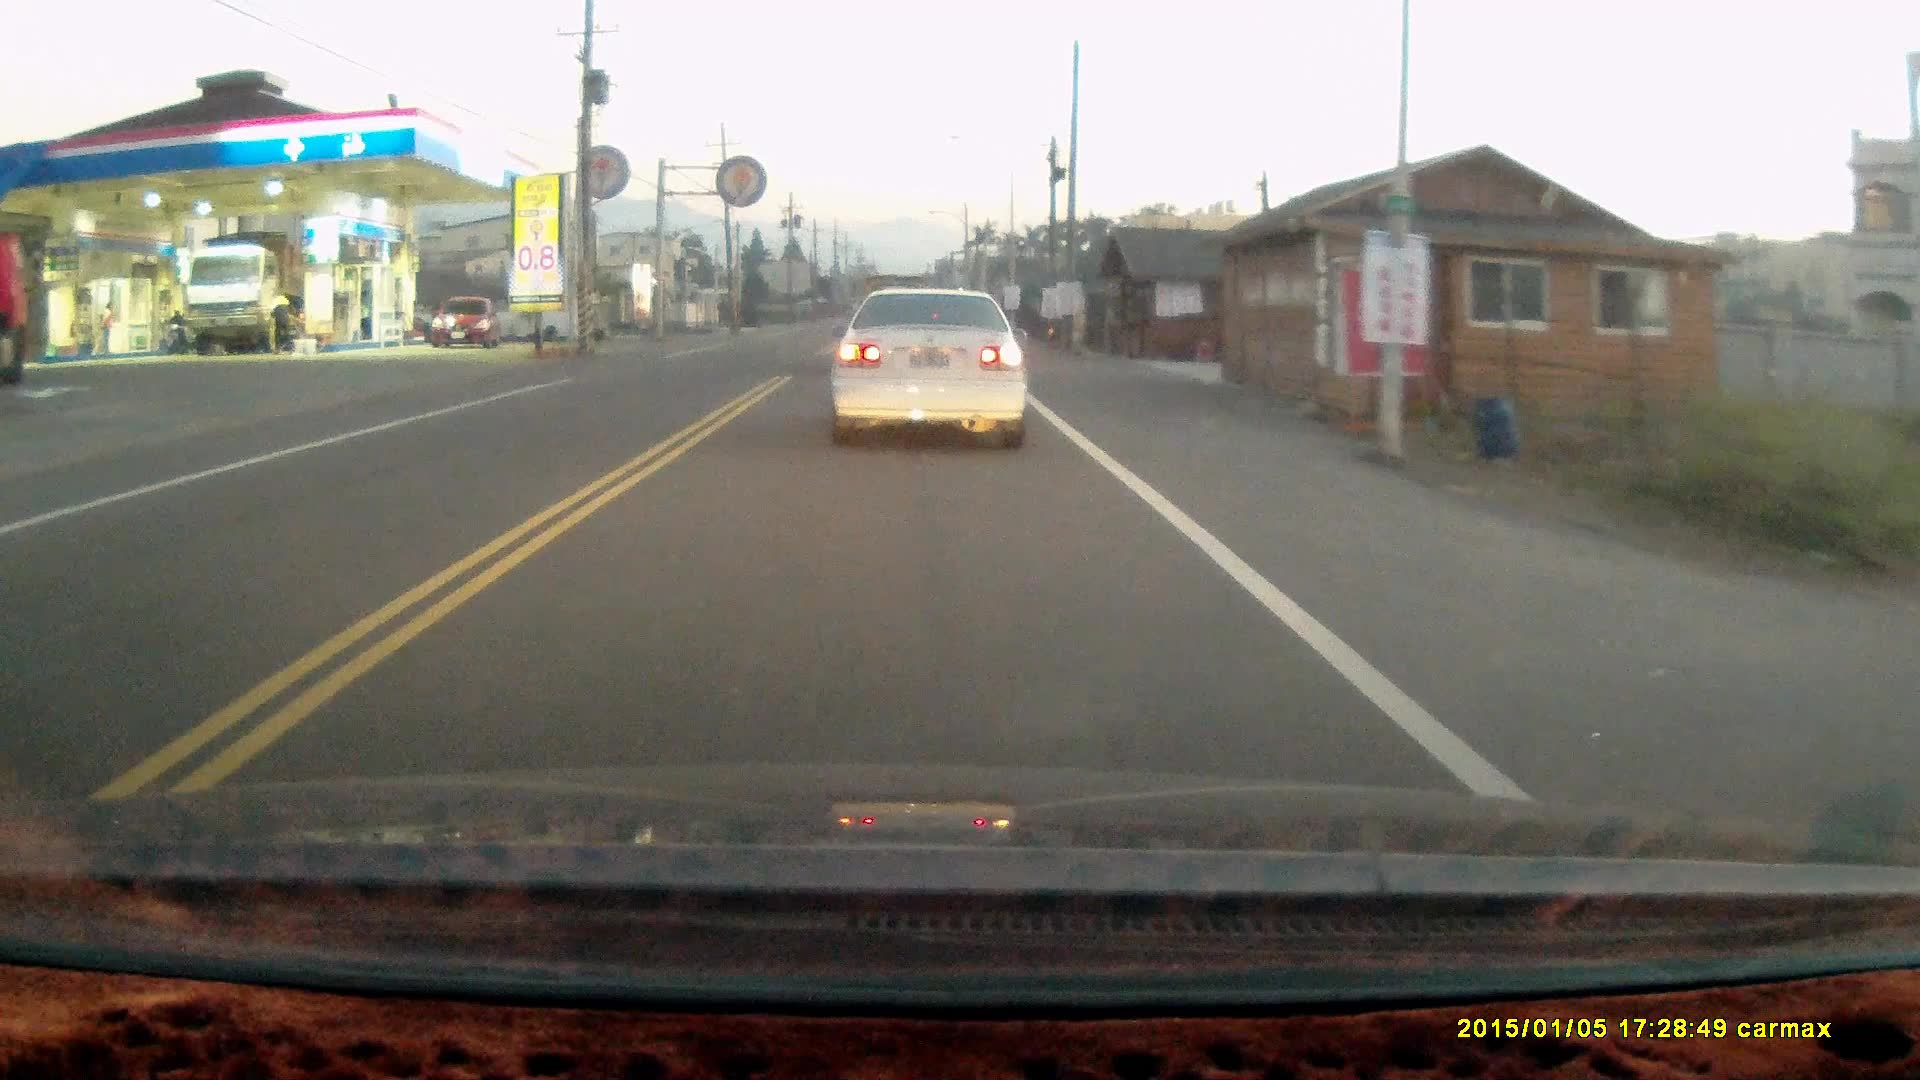pedestrian: (263, 286, 290, 352)
vehicle: (826, 281, 1033, 451), (182, 238, 303, 355), (431, 298, 508, 353)
